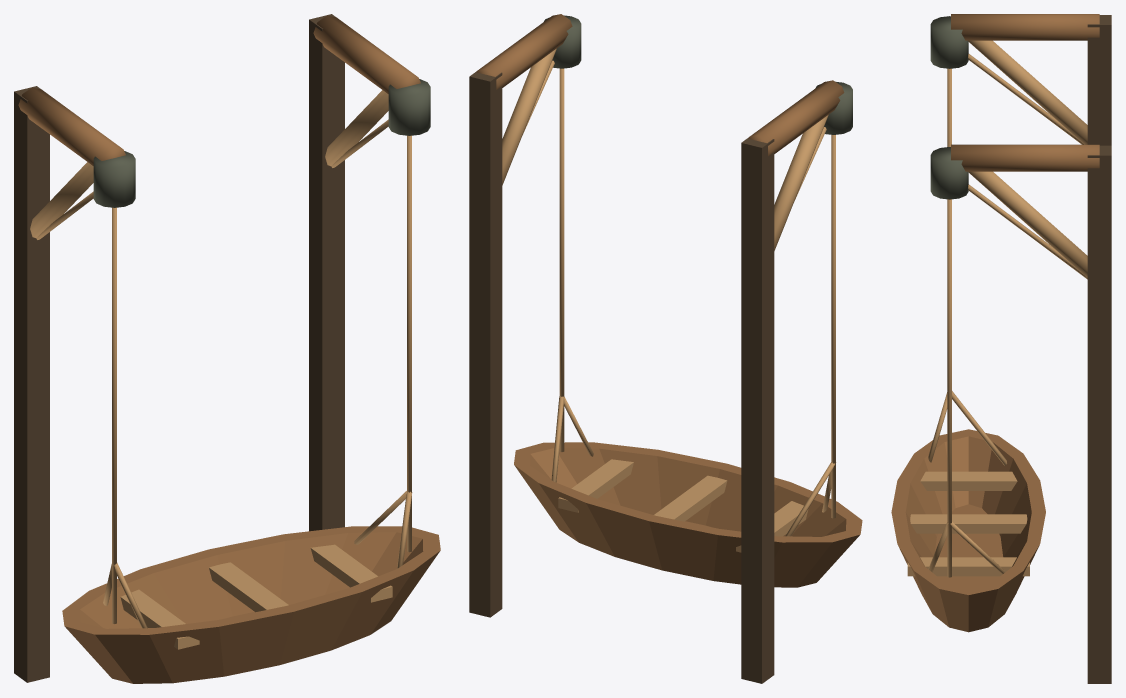
The model's file is hanging_boat.glb.
The picture shows the model from 3 angles, left to right: view 1: azimuth 30°, elevation 25°; view 2: azimuth 150°, elevation 25°; view 3: azimuth 270°, elevation 25°; orthographic projection. The views are drawn at different scales.
Visible parts, largest first — view 1: hanging_boat; view 2: hanging_boat; view 3: hanging_boat.
Part boxes in pixels (<box>): hanging_boat: <box>14,14,440,683</box>; hanging_boat: <box>469,14,862,683</box>; hanging_boat: <box>891,14,1111,683</box>.
Bounding box in the file's own units: 3.3 × 4.95 × 1.85.
